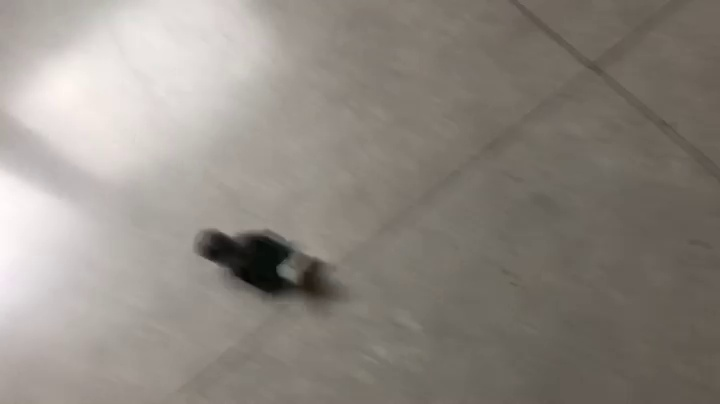people: (192, 226, 326, 299)
